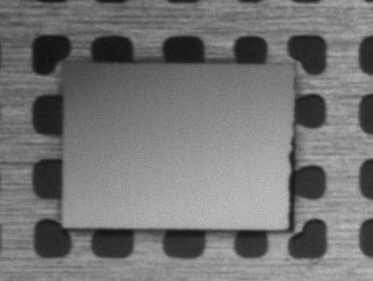DIE_BROKEN: (286, 120, 298, 233)
